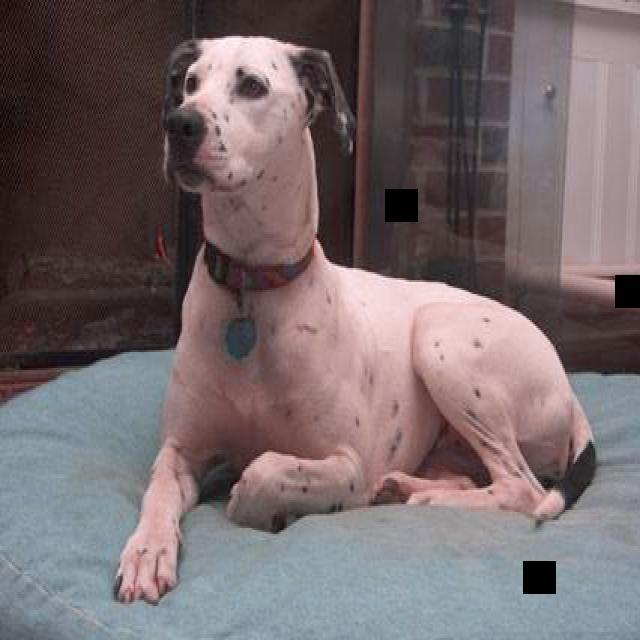adult_dog: (112, 28, 597, 605)
